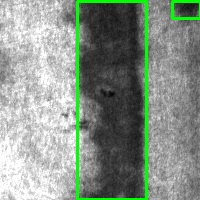patches: (77, 1, 146, 199), (172, 1, 200, 18)
